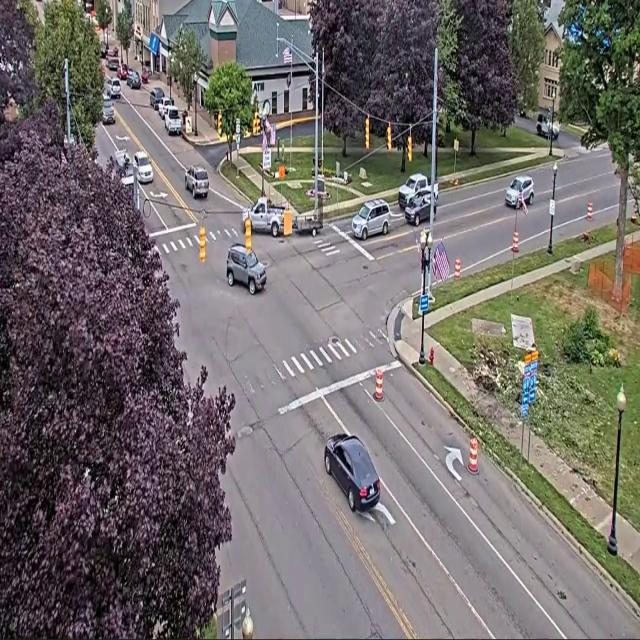car: (324, 434, 380, 511), (227, 243, 266, 295), (352, 200, 390, 239), (405, 189, 435, 226), (398, 174, 429, 209), (505, 176, 533, 208), (185, 166, 208, 198), (133, 152, 153, 183), (113, 151, 132, 183), (537, 114, 559, 140), (158, 96, 174, 119), (102, 98, 115, 125), (150, 88, 164, 110), (106, 77, 120, 99), (127, 70, 141, 88), (107, 56, 119, 71), (117, 64, 128, 79), (141, 67, 150, 83), (101, 41, 108, 59), (107, 47, 118, 57)
traffic signal: (245, 216, 251, 251), (200, 225, 205, 262), (253, 111, 259, 135), (407, 134, 412, 162), (365, 117, 369, 149), (387, 124, 391, 151), (217, 112, 221, 136)
truck: (243, 197, 286, 237), (398, 174, 430, 210), (536, 114, 559, 140), (164, 107, 181, 135)
